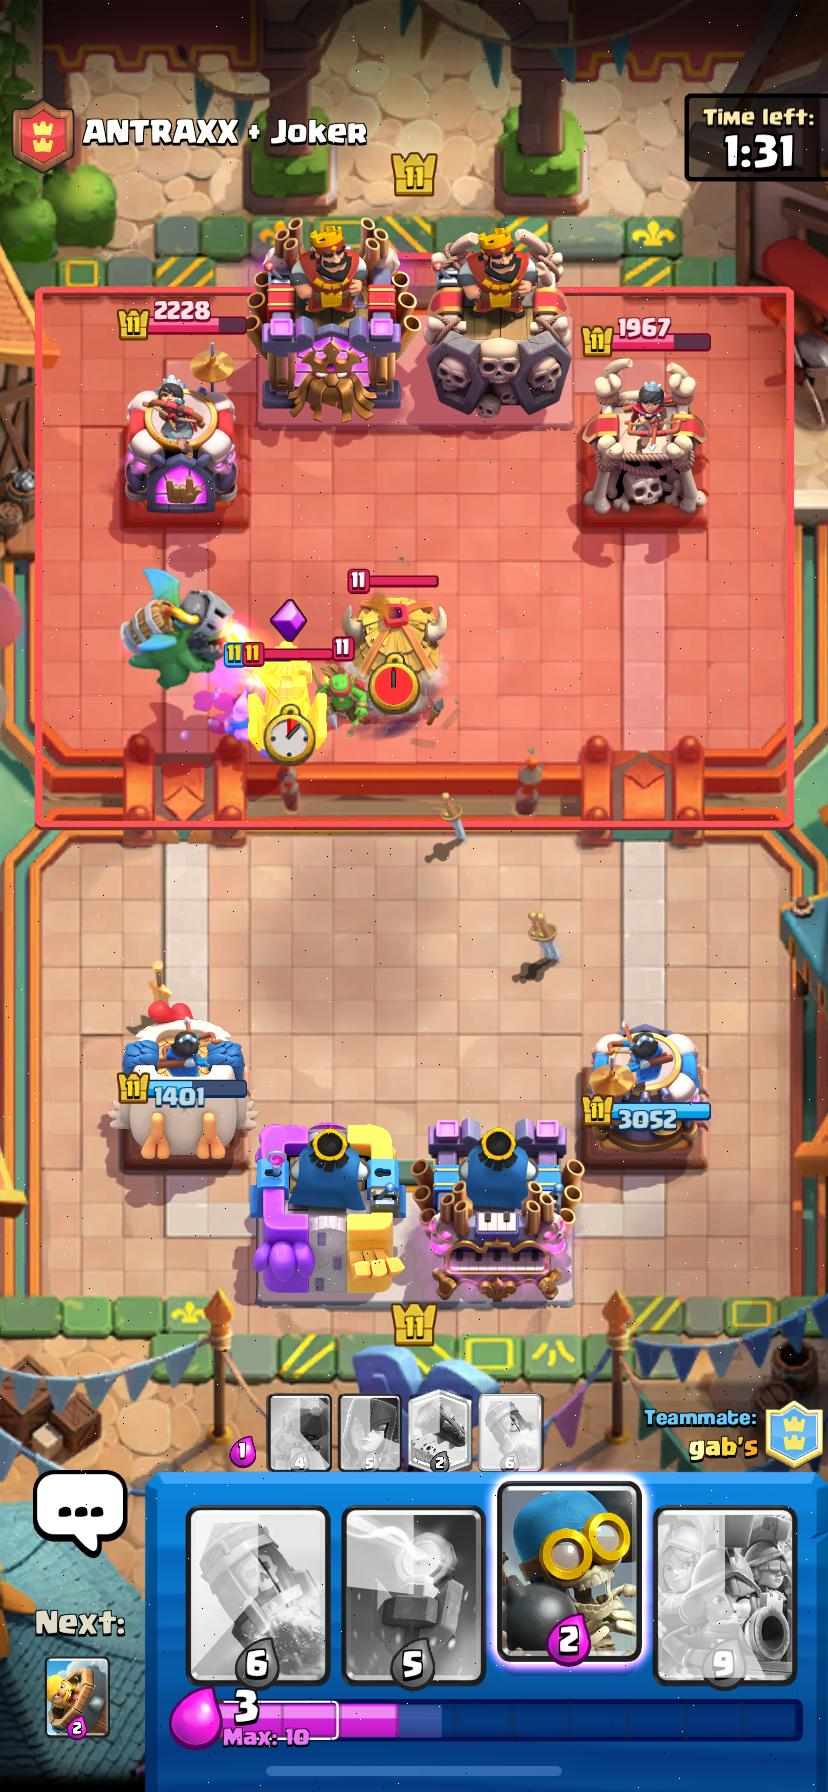EGoblinHut: (351, 590, 446, 715)
EKingTower: (247, 219, 417, 421), (423, 229, 570, 418)
ESpearGoblin: (315, 667, 367, 731)
ETesla: (249, 661, 326, 763)
EnemyPrincessTower: (581, 359, 707, 514), (124, 363, 238, 514)
OInfernoDrag: (121, 569, 232, 689)
ORoyalKnight: (395, 234, 428, 285)
OwnKingTower: (412, 1122, 580, 1303), (252, 1123, 403, 1303)
OwnPrincessTower: (109, 1014, 256, 1162), (578, 1023, 710, 1169)
